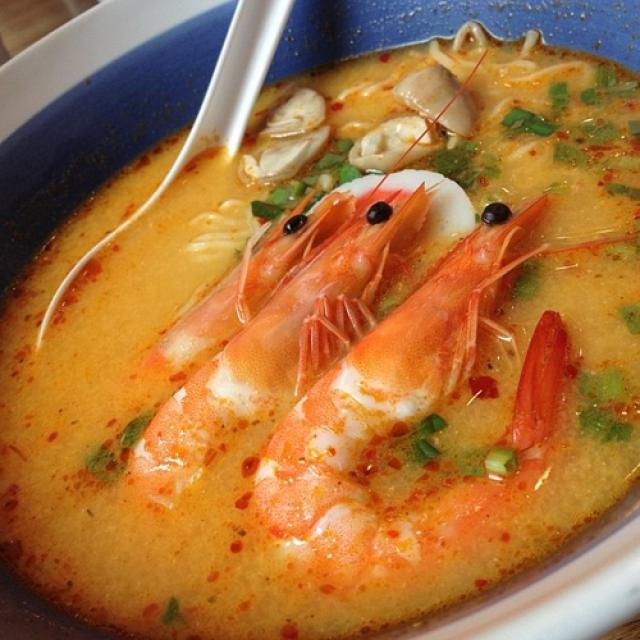汤锅炖物: (27, 37, 631, 613)
